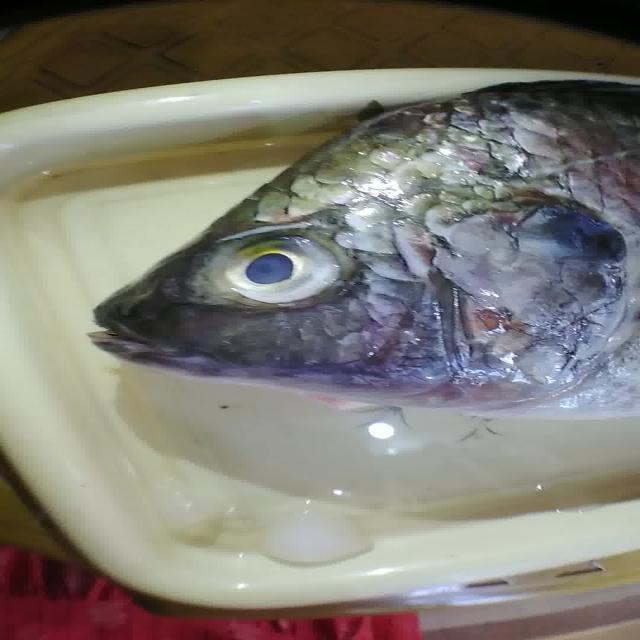Fresh: (218, 232, 372, 310)
